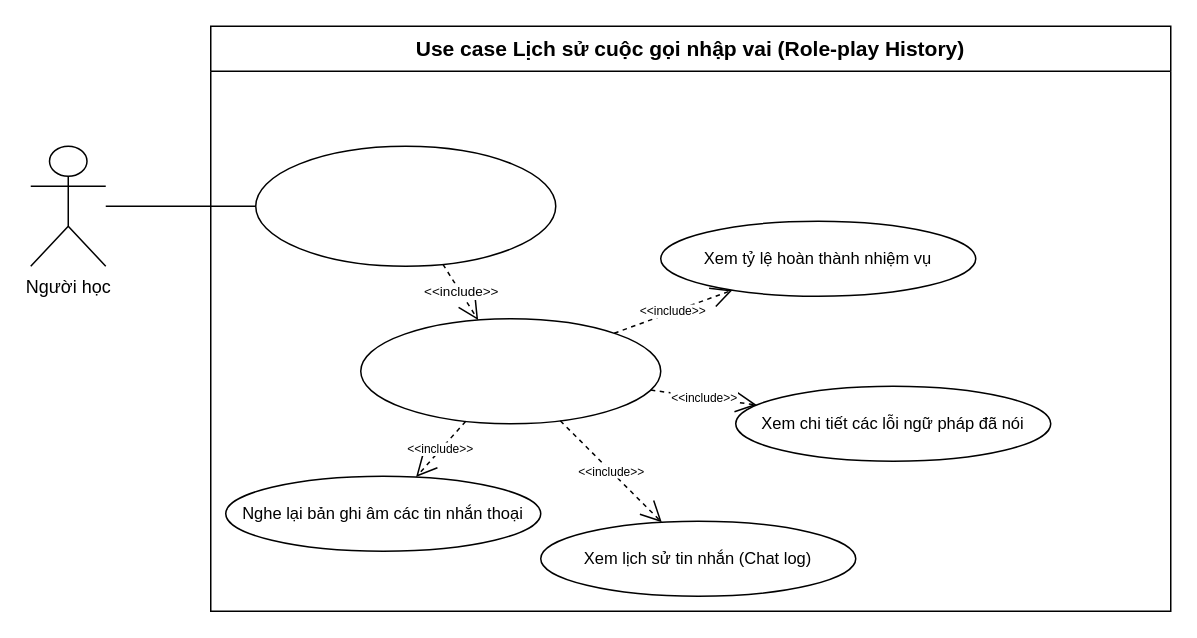
This 1197x638 diagram has some shape labels left out. The shapes that lost their labels are listed below. From the top down, each one's centre as x and y in pixels, then its label:
At (405,205): "Xem lịch sử luyện tập".
At (510,370): "Xem chi tiết hội thoại đã chọn".
